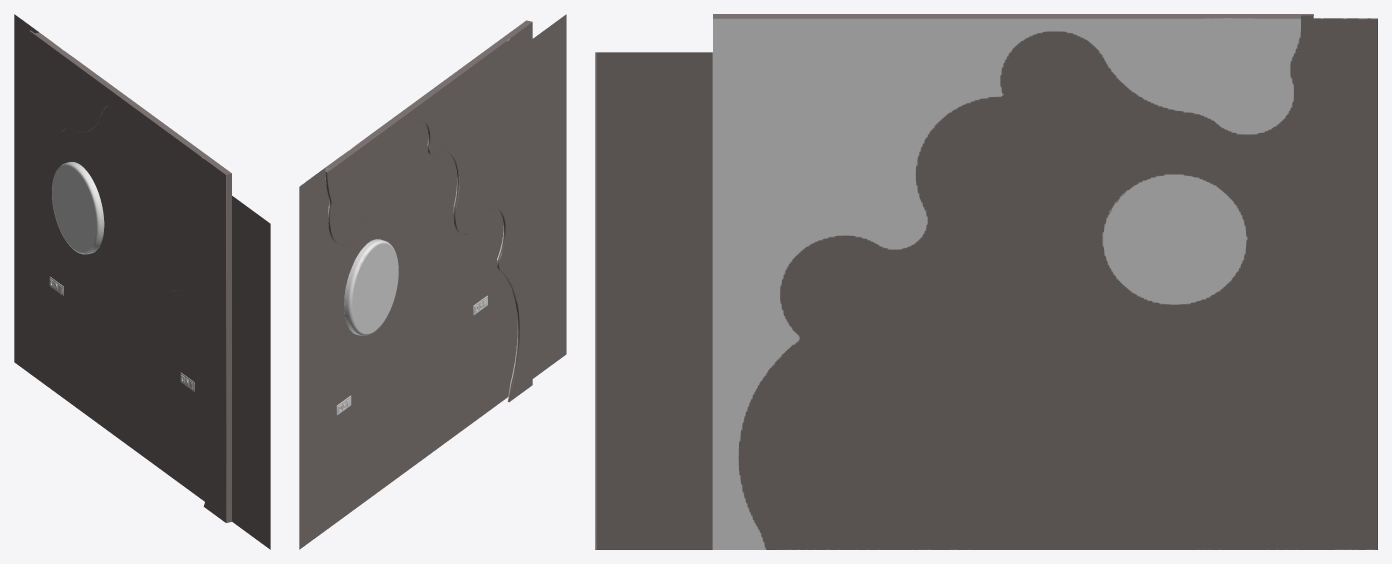
The model's file is VidOneVarOne.gltf.
3 views of the same model, side by side, from view 1: azimuth 30°, elevation 25°; view 2: azimuth 150°, elevation 25°; view 3: azimuth 270°, elevation 25° (orthographic). The views are drawn at different scales.
Parts seen in each view (by area): view 1: VidOneVarOne; view 2: VidOneVarOne; view 3: VidOneVarOne.
Boxes of the visible parts, <box> form: VidOneVarOne: <box>14,14,270,549</box>; VidOneVarOne: <box>299,14,566,549</box>; VidOneVarOne: <box>595,14,1377,549</box>.
Size of the model in its own units: 0.0579 by 2.99 by 3.99.
Materials: 1 (1 with a texture image).
